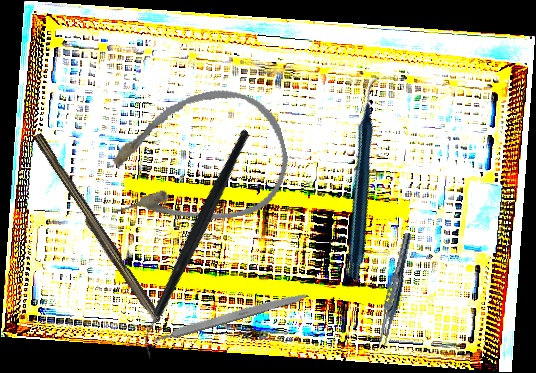Cannula: (92, 77, 299, 245)
Chopper: (79, 128, 314, 361)
Handpiece: (265, 75, 468, 282)
Scalpel Handle: (27, 132, 166, 326), (151, 289, 310, 344)
Tissue Forceps: (374, 231, 415, 351)
